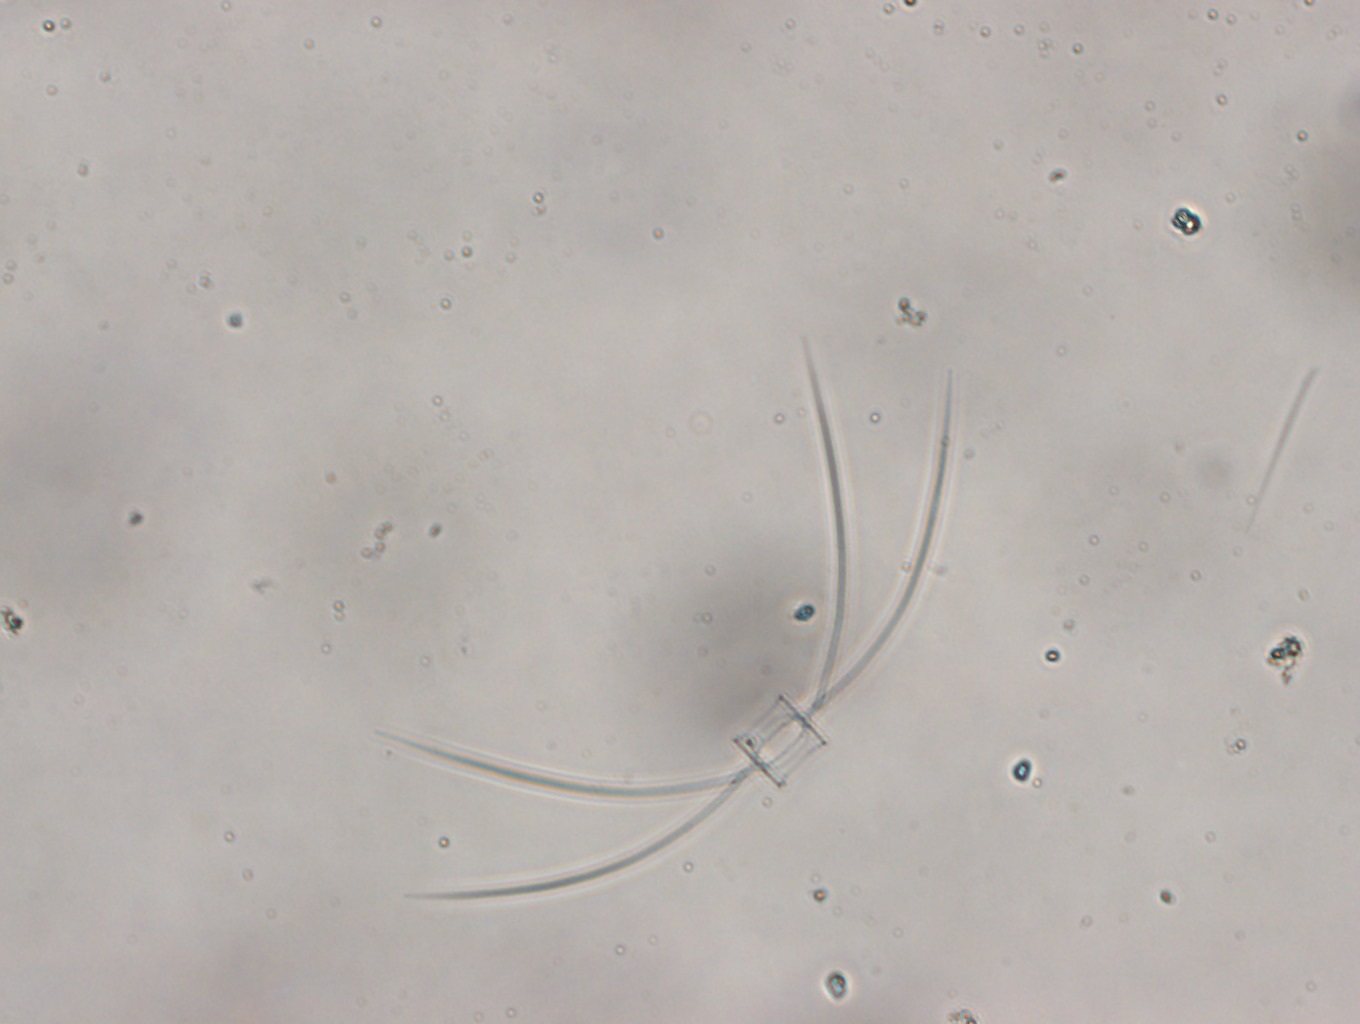chaetoceros: (385, 333, 956, 902)
